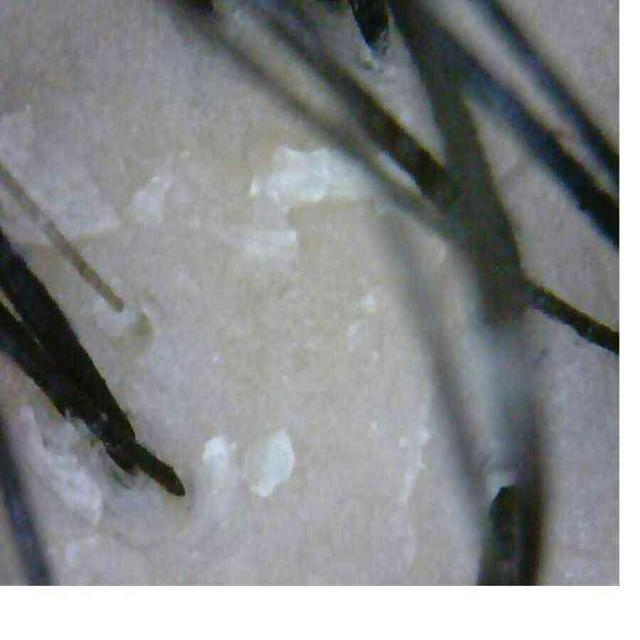d: (0, 104, 115, 244), (245, 145, 379, 247), (14, 406, 106, 527), (188, 431, 238, 508), (252, 431, 296, 500), (0, 186, 46, 245), (129, 174, 172, 220), (92, 296, 136, 338), (362, 292, 375, 312)
